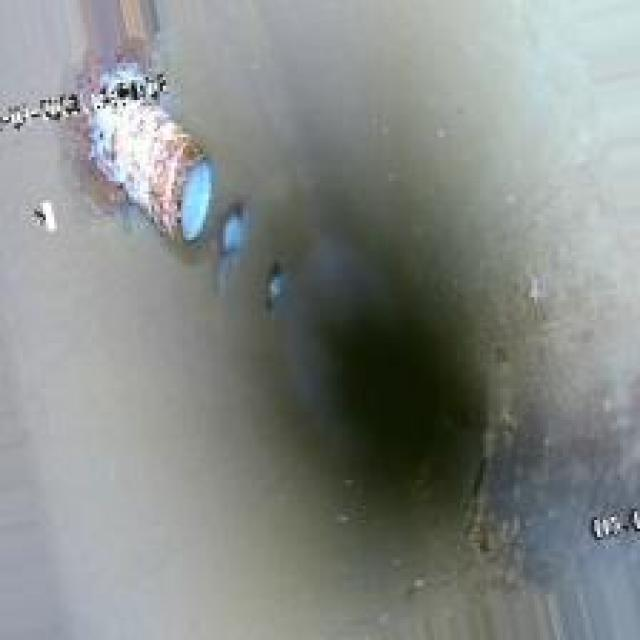ferrule: (63, 57, 206, 246), (212, 197, 252, 254), (263, 257, 283, 306)
